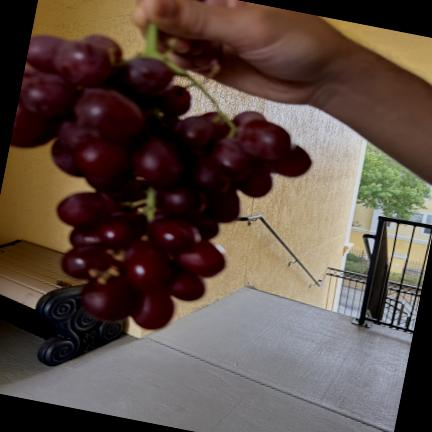grape_cluster: (10, 24, 311, 330)
